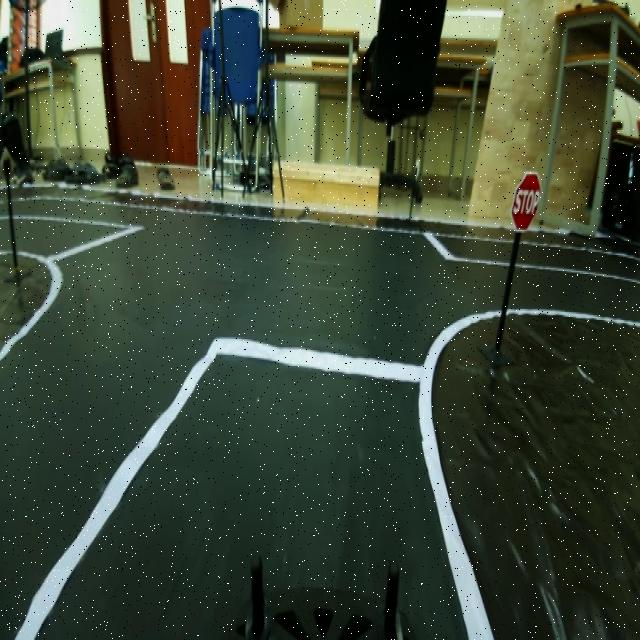stop: (508, 171, 546, 235)
